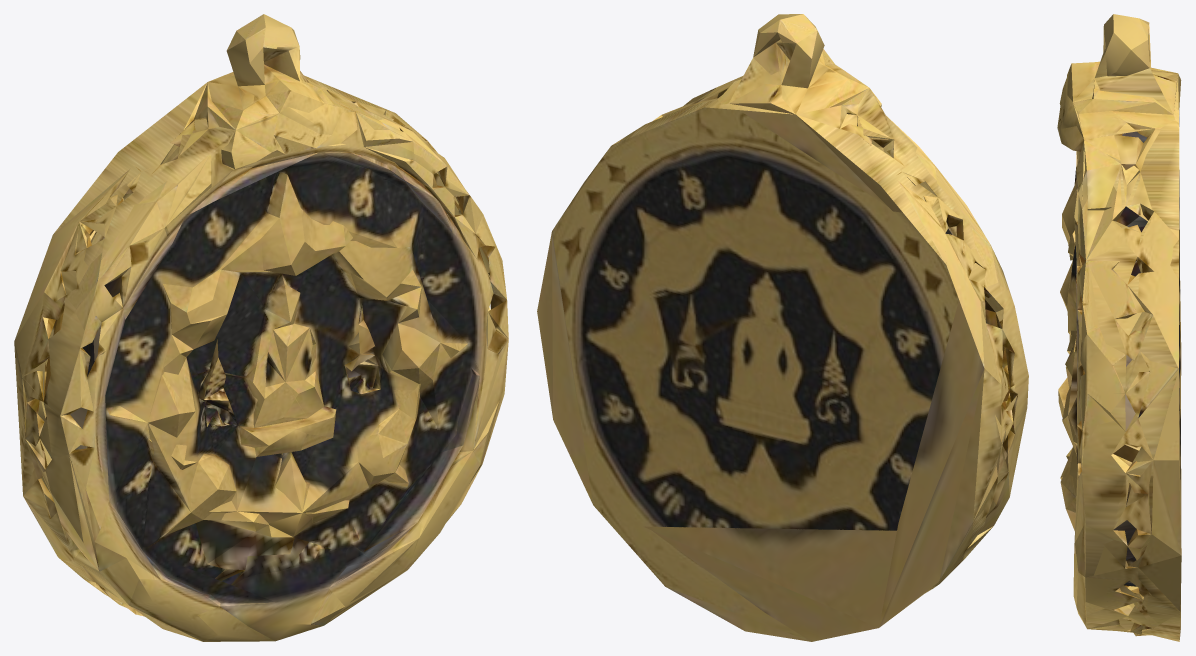
The model's file is e4jatukham.glb.
3 views of the same model, side by side, from view 1: azimuth 30°, elevation 25°; view 2: azimuth 150°, elevation 25°; view 3: azimuth 270°, elevation 25° (orthographic). The views are drawn at different scales.
Visible parts, largest first — view 1: e4jatukham_near, e4jatukham_far; view 2: e4jatukham_far, e4jatukham_near; view 3: e4jatukham_near, e4jatukham_far.
Part boxes in pixels (x1,y1,x2,y2): e4jatukham_near: [14, 14, 508, 641]; e4jatukham_far: [14, 43, 508, 638]; e4jatukham_far: [552, 39, 1028, 641]; e4jatukham_near: [537, 14, 1026, 641]; e4jatukham_near: [1057, 14, 1181, 641]; e4jatukham_far: [1060, 24, 1180, 639].
Bounding box in the file's own units: 0.0504 × 0.064 × 0.012.
Materials: 2 (2 with a texture image).
